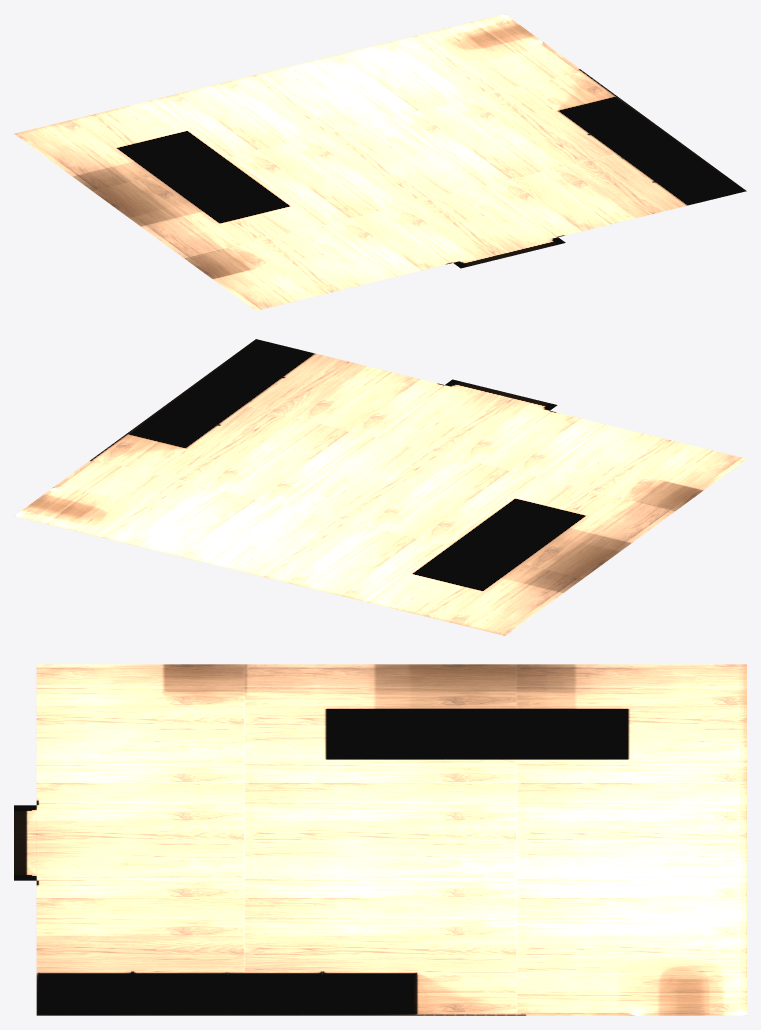
The model's file is Floor_river_birch.glb.
The picture shows the model from 3 angles, top to bottom: view 1: azimuth 30°, elevation 25°; view 2: azimuth 150°, elevation 25°; view 3: azimuth 270°, elevation 25°; orthographic projection. The views are drawn at different scales.
Parts seen in each view (by area): view 1: Floor_river_birch; view 2: Floor_river_birch; view 3: Floor_river_birch.
Boxes of the visible parts, left/top/right/bottom form: Floor_river_birch: left=14, top=14, right=746, bottom=310; Floor_river_birch: left=14, top=339, right=746, bottom=635; Floor_river_birch: left=14, top=664, right=746, bottom=1015.
Bounding box in the file's own units: 3.67 × 5.31e-07 × 3.23.
1 material, 1 textured.
